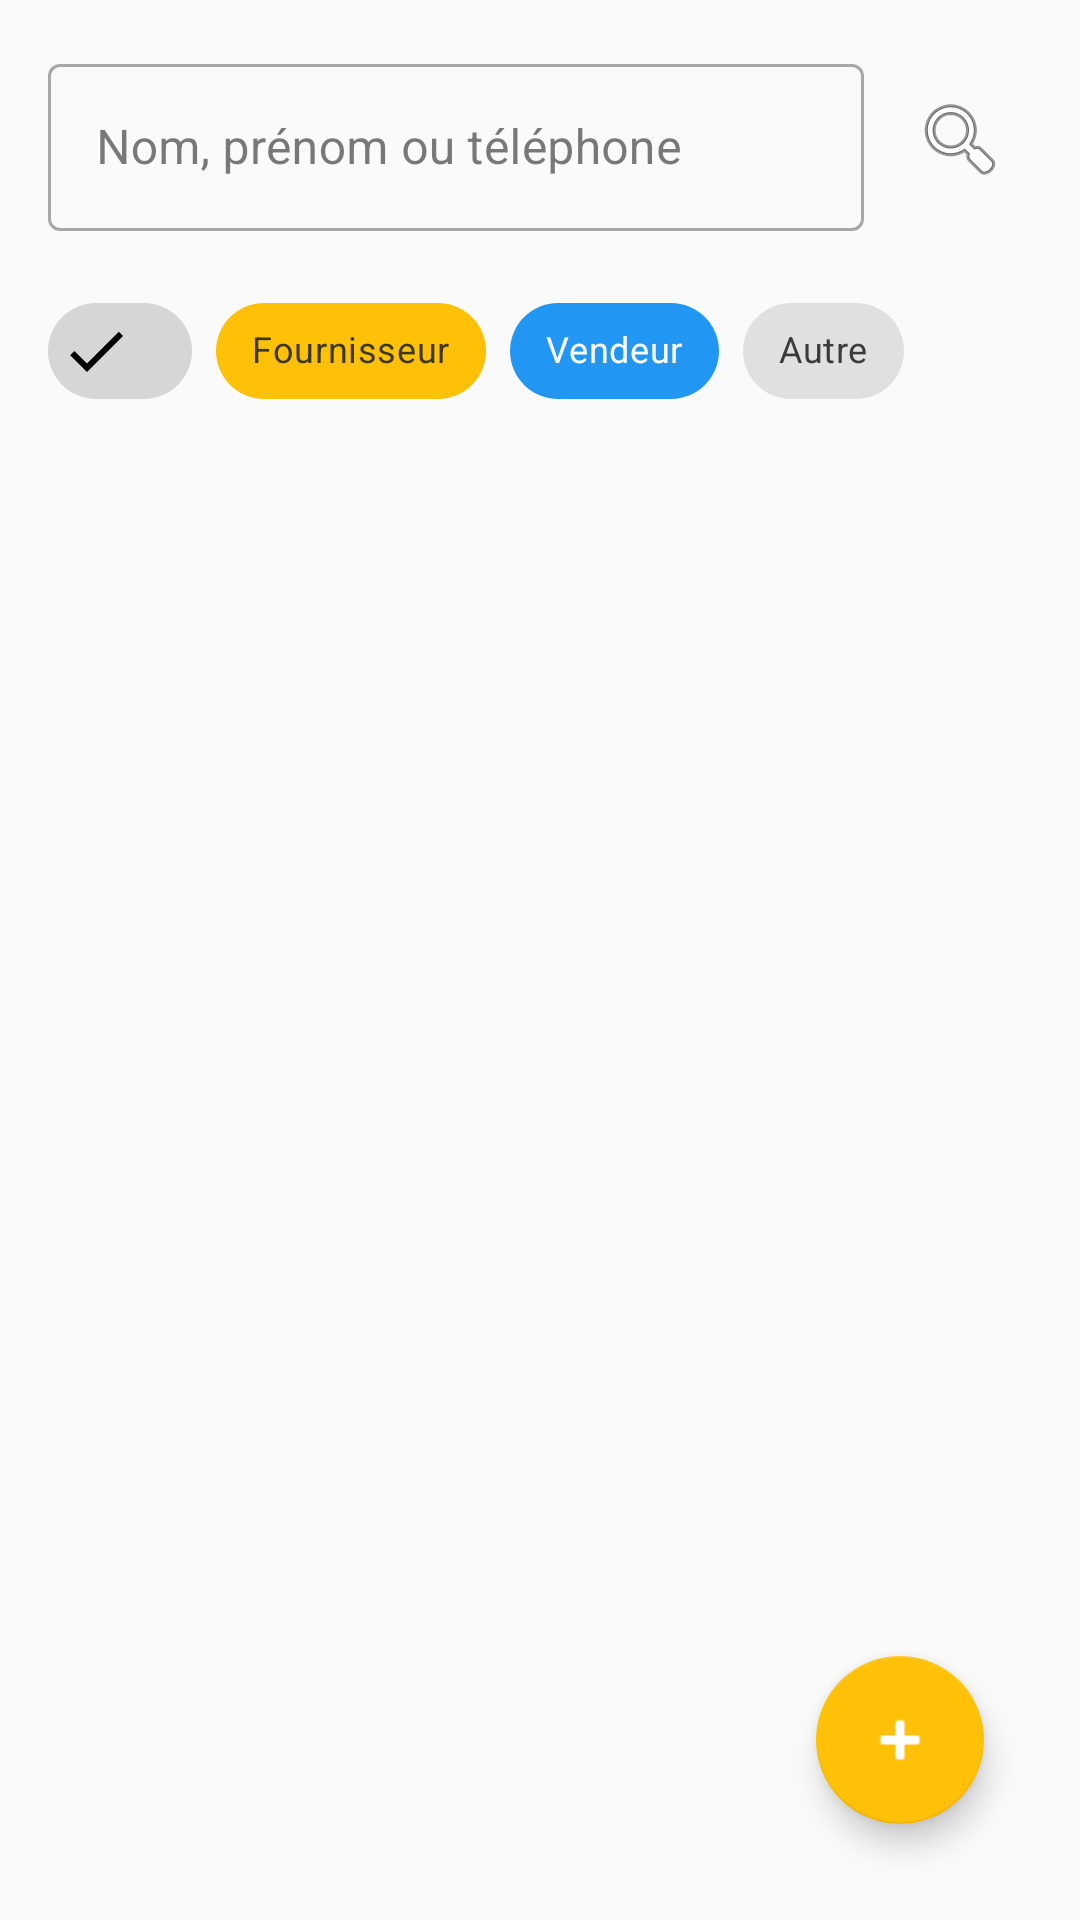

Named icons in this screenshot (1080w x 1920h) and their centers, (x,y):
Ajouter un contact: (900,1740)
Rechercher: (960,139)
